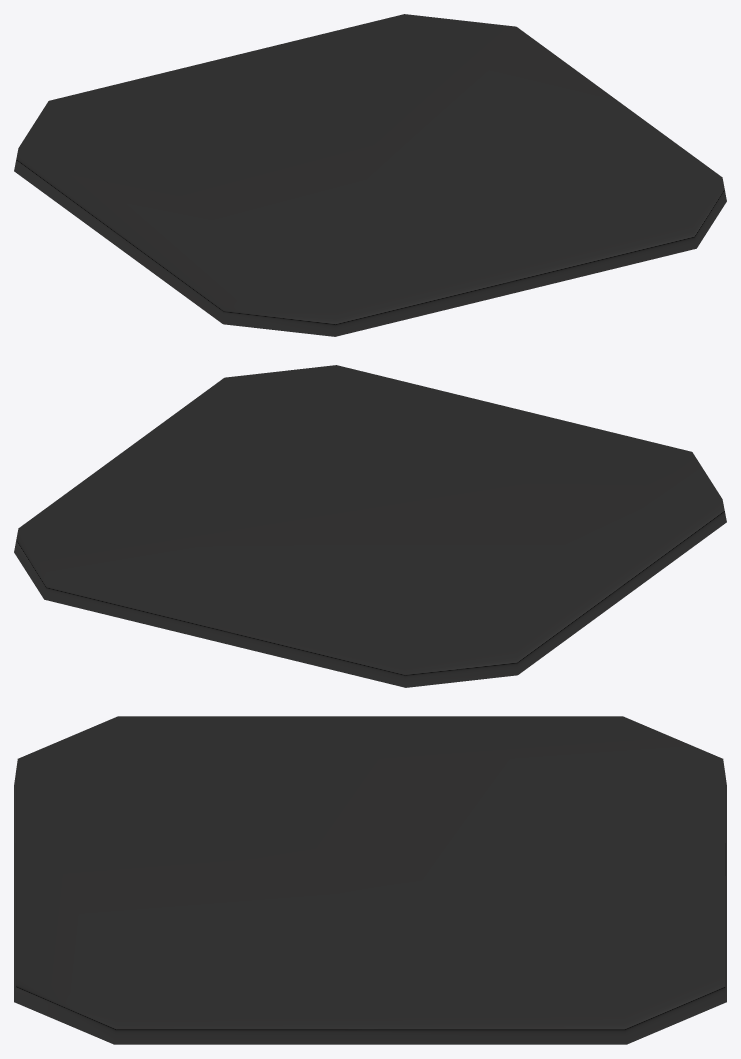
Rendered from Turret_006.fbx.
The picture shows the model from 3 angles, top to bottom: view 1: azimuth 30°, elevation 25°; view 2: azimuth 150°, elevation 25°; view 3: azimuth 270°, elevation 25°; orthographic projection. The views are drawn at different scales.
Visible parts, largest first — view 1: Turret_006; view 2: Turret_006; view 3: Turret_006.
Boxes of the visible parts, x1,y1,x2,y2 form: Turret_006: (14,14,726,336); Turret_006: (14,365,726,687); Turret_006: (14,716,726,1044).
Size of the model in its own units: 134 by 134 by 5.97.
